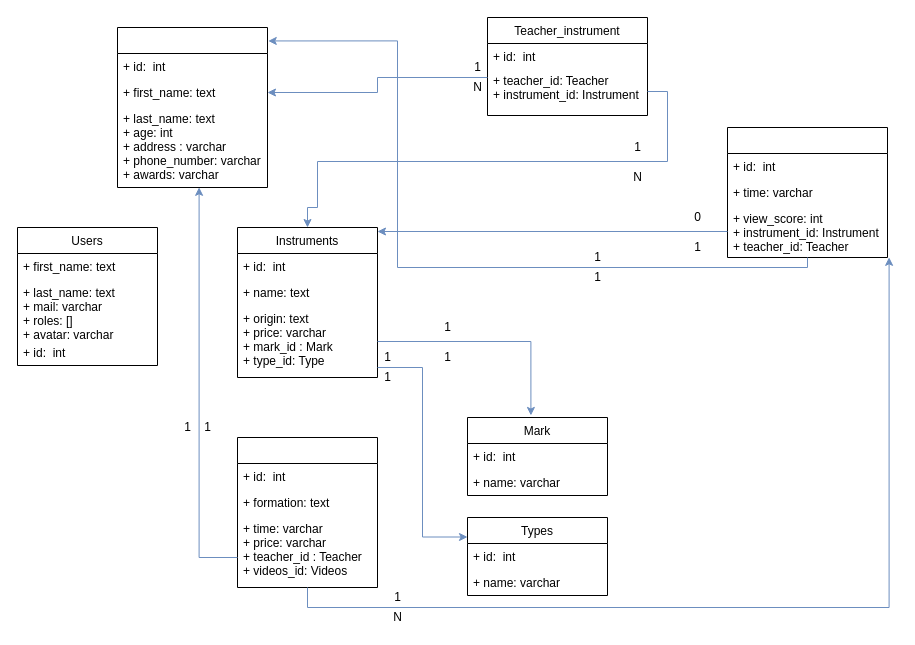
This 915x645 diagram has some shape labels left out. The box of each missing label's shape, as (x1, y1, x2, y2) in pixels:
Services: (236, 436, 378, 588)
Teacher: (116, 26, 268, 188)
Videos: (726, 126, 888, 258)
